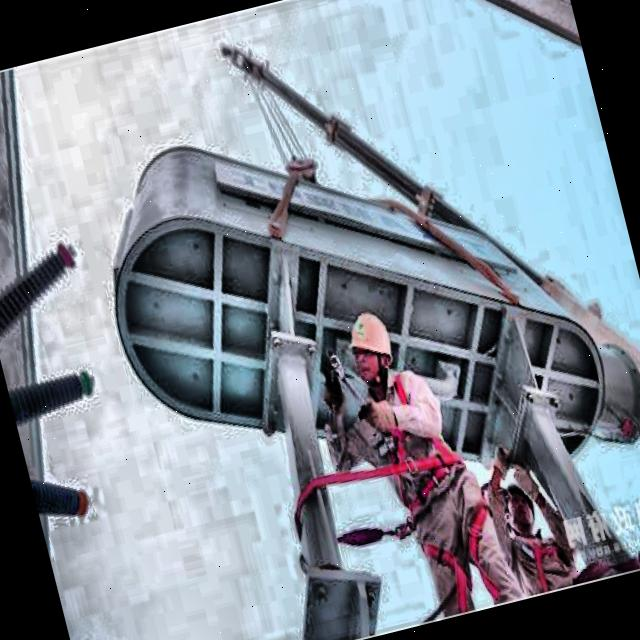helmet: (339, 304, 404, 396), (492, 470, 546, 540)
